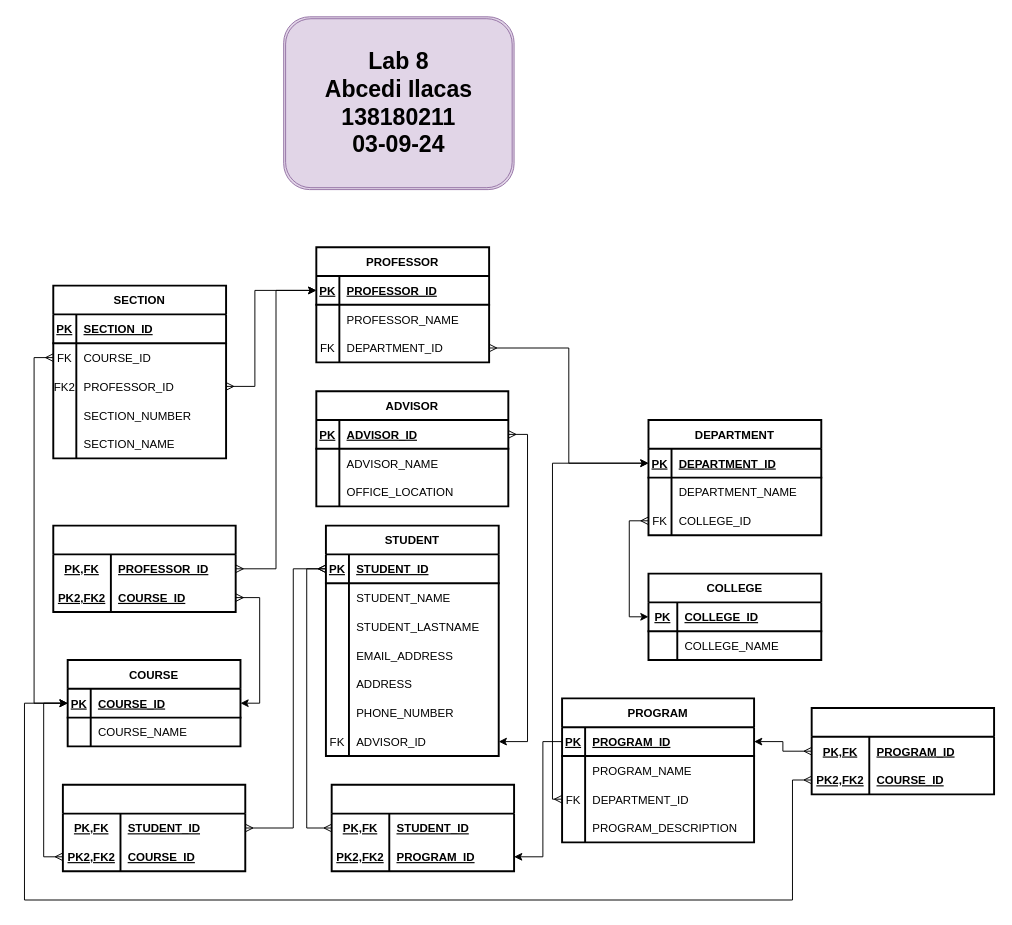
The diagram is 1012 pixels wide and 925 high, and some of its shapes have lost their labels. The shapes that lost their labels are listed below. From the top down, each one's box as (x1, y1, x2, y2) in pixels, then its label:
(52, 524, 236, 612): PROFESSOR_COURSE
(810, 707, 995, 795): PROGRAM_COURSE
(61, 783, 246, 872): STUDENT_COURSE
(330, 783, 515, 872): STUDENT_PROGRAM
